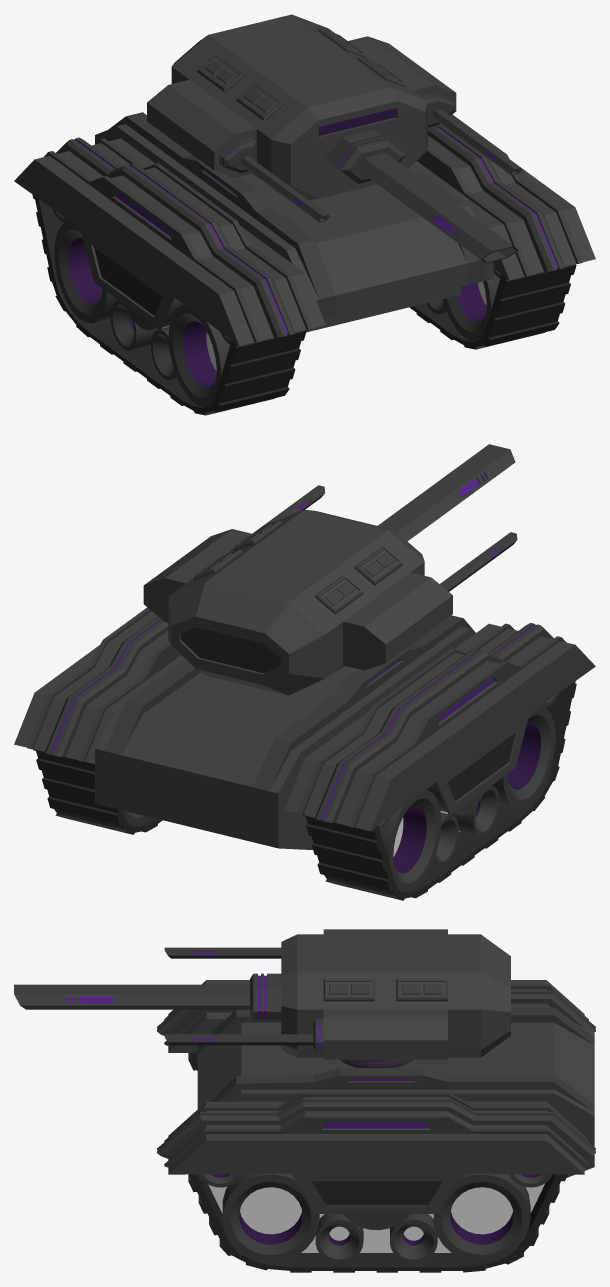
File: PlayerModel_3.fbx
The picture shows the model from 3 angles, top to bottom: view 1: azimuth 30°, elevation 25°; view 2: azimuth 150°, elevation 25°; view 3: azimuth 270°, elevation 25°; orthographic projection. The views are drawn at different scales.
Parts seen in each view (by area): view 1: Top_Body, Over_Wheel_L, Tank_Body, Over_Wheel_R, Wheel_Belt_L, Cylinder.005, Wheel_Belt_R, Cylinder.007, Cylinder.002; view 2: Top_Body, Tank_Body, Over_Wheel_L, Over_Wheel_R, Wheel_Belt_L, Cylinder.005, Wheel_Belt_R, Cylinder.007; view 3: Top_Body, Over_Wheel_R, Tank_Body, Cylinder.002, Plastic_R, Wheel_Belt_R, Over_Wheel_L, Cylinder.001, Cylinder.008, Cylinder.009, Mid.
Boxes of the visible parts, bbox=[...] form: Top_Body: bbox=[147, 14, 521, 263]; Over_Wheel_L: bbox=[14, 137, 325, 345]; Tank_Body: bbox=[95, 112, 493, 332]; Over_Wheel_R: bbox=[415, 114, 595, 280]; Wheel_Belt_L: bbox=[32, 194, 306, 415]; Cylinder.005: bbox=[54, 221, 229, 406]; Wheel_Belt_R: bbox=[410, 264, 576, 349]; Cylinder.007: bbox=[110, 300, 177, 380]; Cylinder.002: bbox=[443, 273, 499, 341]; Top_Body: bbox=[143, 444, 517, 695]; Tank_Body: bbox=[95, 615, 475, 849]; Over_Wheel_L: bbox=[284, 623, 595, 831]; Over_Wheel_R: bbox=[14, 607, 184, 763]; Wheel_Belt_L: bbox=[303, 681, 576, 900]; Cylinder.005: bbox=[379, 706, 555, 892]; Wheel_Belt_R: bbox=[33, 749, 162, 834]; Cylinder.007: bbox=[432, 785, 499, 865]; Top_Body: bbox=[14, 929, 510, 1059]; Over_Wheel_R: bbox=[157, 1092, 595, 1213]; Tank_Body: bbox=[197, 1007, 594, 1177]; Cylinder.002: bbox=[222, 1173, 530, 1262]; Plastic_R: bbox=[208, 1183, 545, 1252]; Wheel_Belt_R: bbox=[188, 1174, 567, 1272]; Over_Wheel_L: bbox=[157, 980, 595, 1052]; Cylinder.001: bbox=[315, 1214, 437, 1263]; Cylinder.008: bbox=[198, 1174, 552, 1187]; Cylinder.009: bbox=[343, 1214, 409, 1230]; Mid: bbox=[340, 1059, 412, 1067].
Bounding box in the file's own units: 846 × 599 × 1296.
